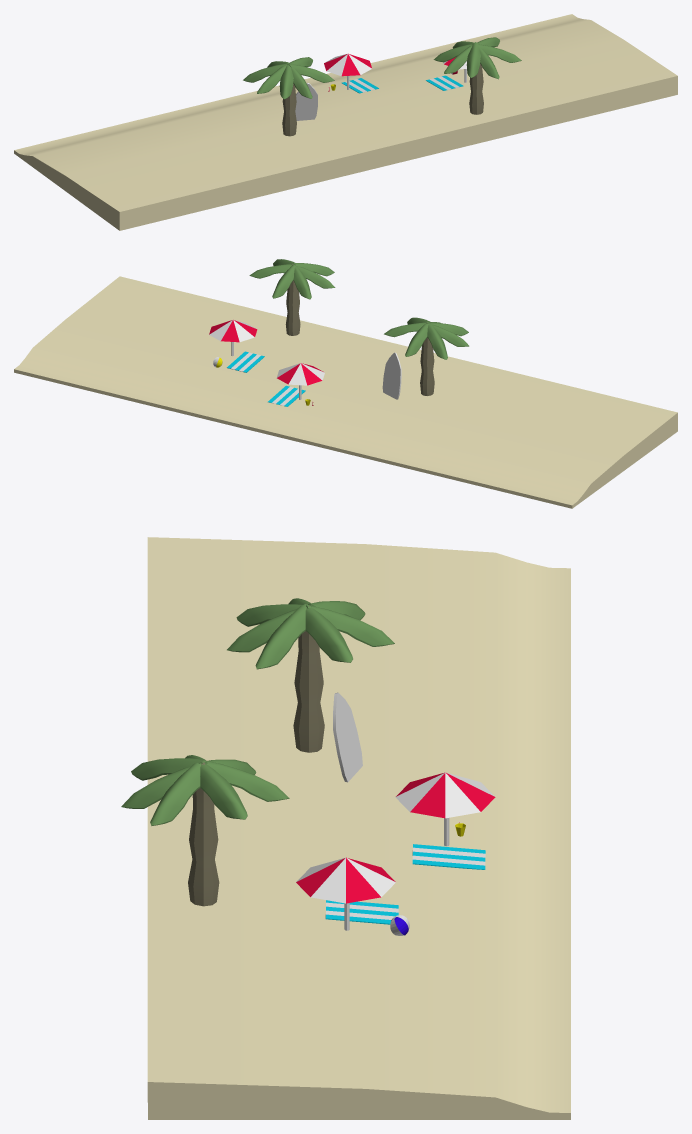
The model's file is beach.fbx.
3 renders of one model, top to bottom at view 1: azimuth 30°, elevation 25°; view 2: azimuth 150°, elevation 25°; view 3: azimuth 270°, elevation 25°, orthographic. The views are drawn at different scales.
Parts seen in each view (by area): view 1: sandMound, pCylinder3 (×2), pCone1, pCube5 (×2), pCube7 (×2), pCylinder2; view 2: sandMound, pCone1 (×2), pCylinder3 (×2), pCylinder2, towel3, towel2, pCube6, pCube1; view 3: sandMound, pCone1 (×2), pCylinder3 (×2), pCube7 (×2), pCube4 (×2), pCylinder2, towel2, pCube2, pCube11, towel3, pCube10, pCube1 (+1 smaller).
Part boxes in pixels (bbox=[...]): sandMound: bbox=[14, 14, 677, 230]; pCylinder3 (×2): bbox=[282, 63, 483, 136]; pCone1: bbox=[324, 53, 372, 76]; pCube5 (×2): bbox=[279, 42, 480, 99]; pCube7 (×2): bbox=[289, 44, 521, 82]; pCylinder2: bbox=[295, 83, 317, 120]; sandMound: bbox=[14, 276, 677, 508]; pCone1 (×2): bbox=[209, 319, 324, 385]; pCylinder3 (×2): bbox=[285, 264, 434, 395]; pCylinder2: bbox=[382, 352, 401, 399]; towel3: bbox=[227, 351, 264, 372]; towel2: bbox=[268, 385, 305, 406]; pCube6: bbox=[427, 323, 447, 359]; pCube1: bbox=[405, 322, 428, 356]; sandMound: bbox=[147, 537, 570, 1119]; pCone1 (×2): bbox=[296, 772, 495, 903]; pCylinder3 (×2): bbox=[188, 606, 324, 906]; pCube7 (×2): bbox=[150, 604, 306, 825]; pCube4 (×2): bbox=[121, 605, 312, 808]; pCylinder2: bbox=[333, 692, 362, 782]; towel2: bbox=[412, 844, 485, 869]; pCube2: bbox=[305, 604, 352, 662]; pCube11: bbox=[200, 763, 247, 819]; towel3: bbox=[325, 900, 398, 924]; pCube10: bbox=[203, 760, 289, 801]; pCube1: bbox=[306, 605, 394, 646].
Size of the model in its own units: 47.11 by 7.13 by 16.44.
